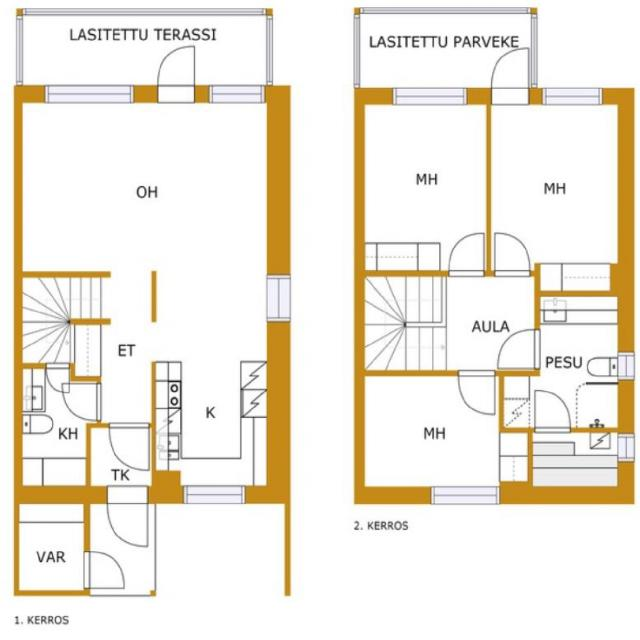door: (107, 486, 147, 546), (491, 48, 528, 104), (158, 46, 195, 101), (109, 423, 149, 470), (497, 329, 539, 368), (458, 370, 494, 414), (84, 552, 125, 590), (494, 234, 530, 276), (448, 233, 483, 276), (534, 390, 569, 433), (62, 384, 101, 421), (46, 363, 68, 392)
